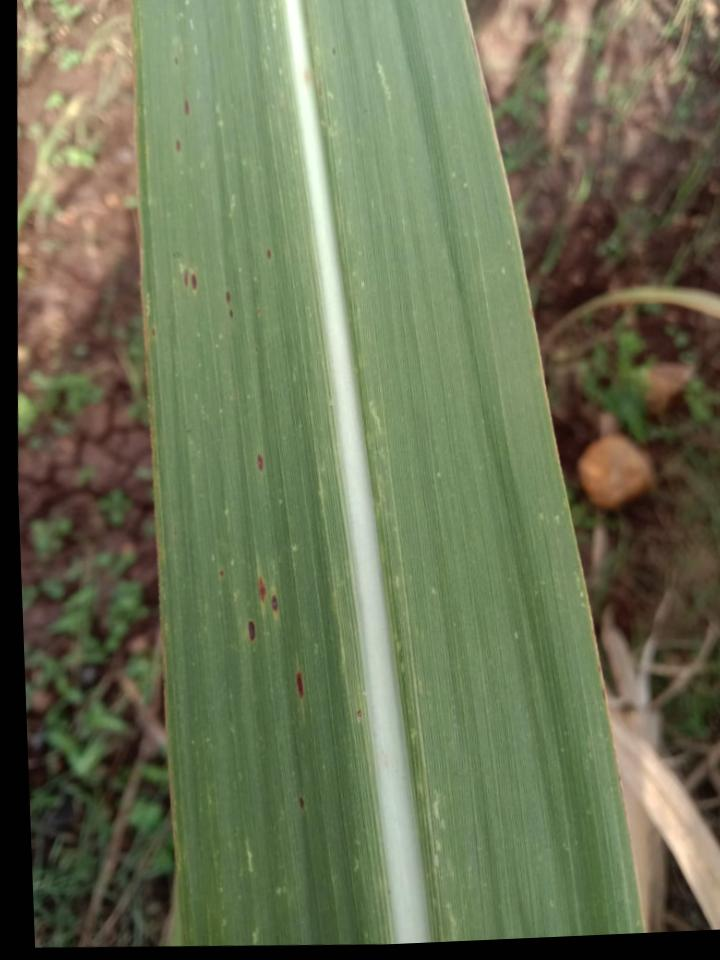Rust: (255, 572, 286, 625), (174, 265, 202, 297), (290, 666, 312, 703), (243, 614, 260, 646), (222, 288, 238, 322), (252, 450, 266, 476), (168, 135, 185, 155), (293, 795, 308, 816), (211, 568, 228, 585), (182, 97, 192, 120), (265, 248, 273, 266)
